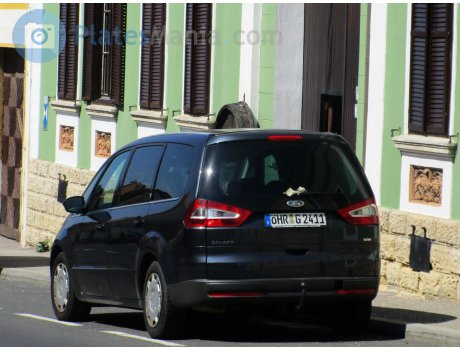License Plates: (269, 211, 324, 230)
